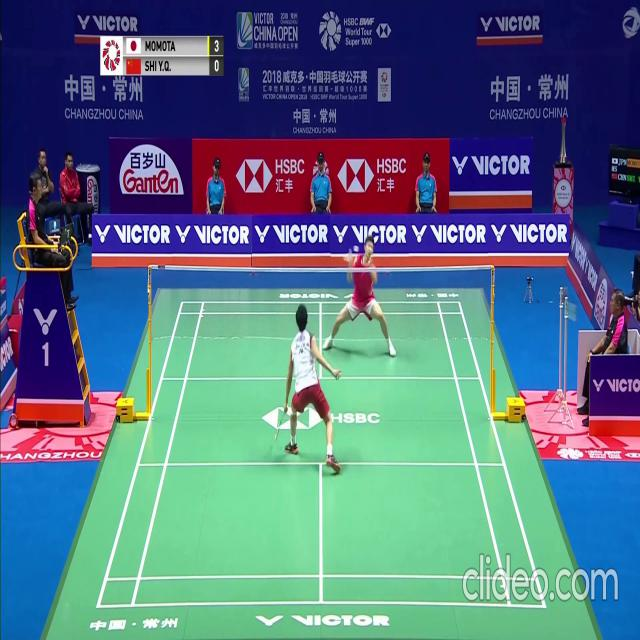Shuttlecock: (355, 245, 359, 252)
